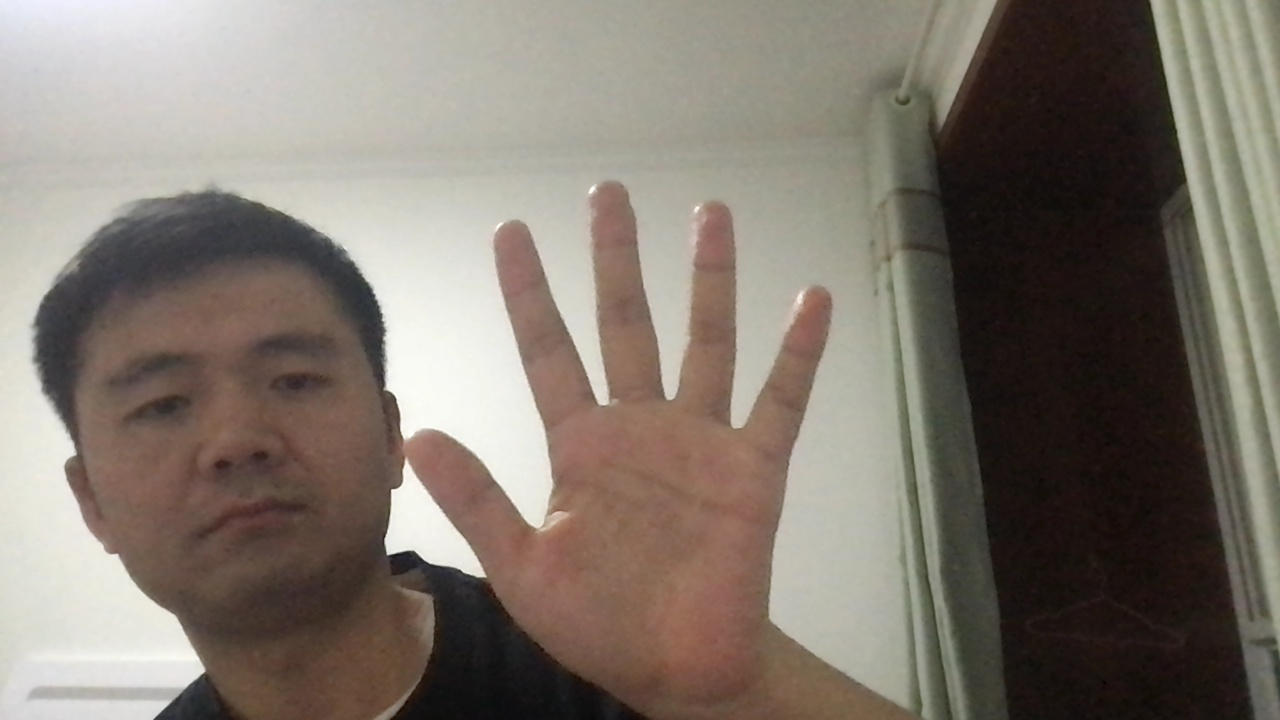hello: (368, 173, 844, 645)
